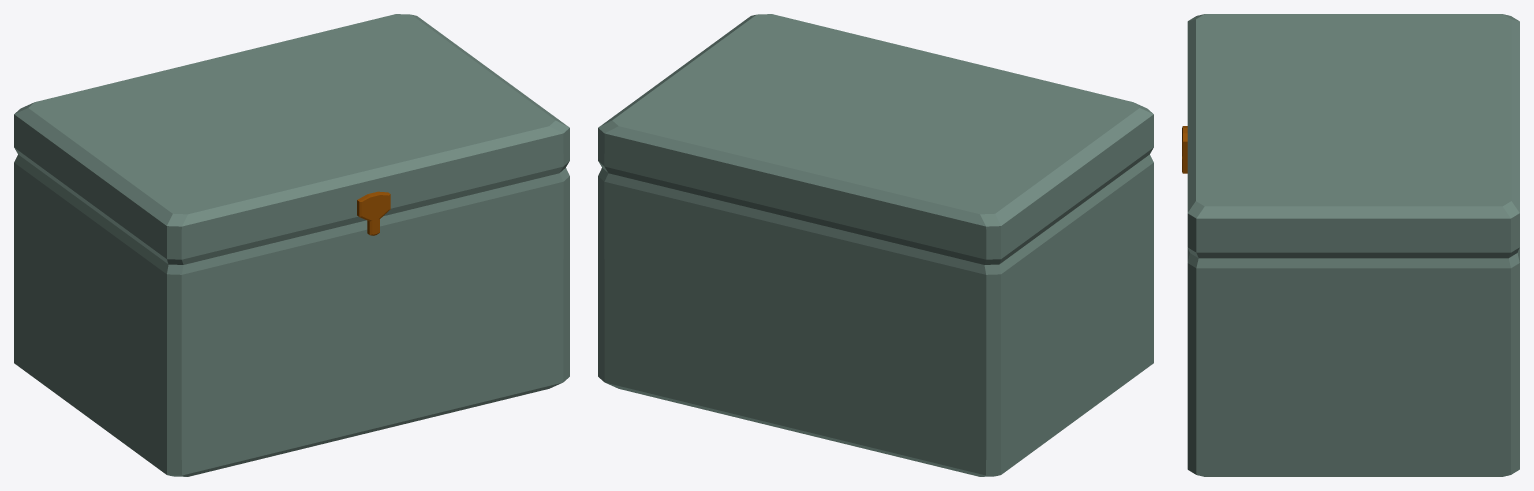
The model's file is cargo remake.fbx.
3 views of the same model, side by side, from view 1: azimuth 30°, elevation 25°; view 2: azimuth 150°, elevation 25°; view 3: azimuth 270°, elevation 25° (orthographic). The views are drawn at different scales.
Parts seen in each view (by area): view 1: Cube, Cube.001; view 2: Cube; view 3: Cube.
Part boxes in pixels (x1,y1,x2,y2): Cube: (14,14,569,476); Cube.001: (357,191,390,235); Cube: (598,14,1153,476); Cube: (1187,14,1519,476).
Bounding box in the file's own units: 122 × 76.06 × 86.04.
